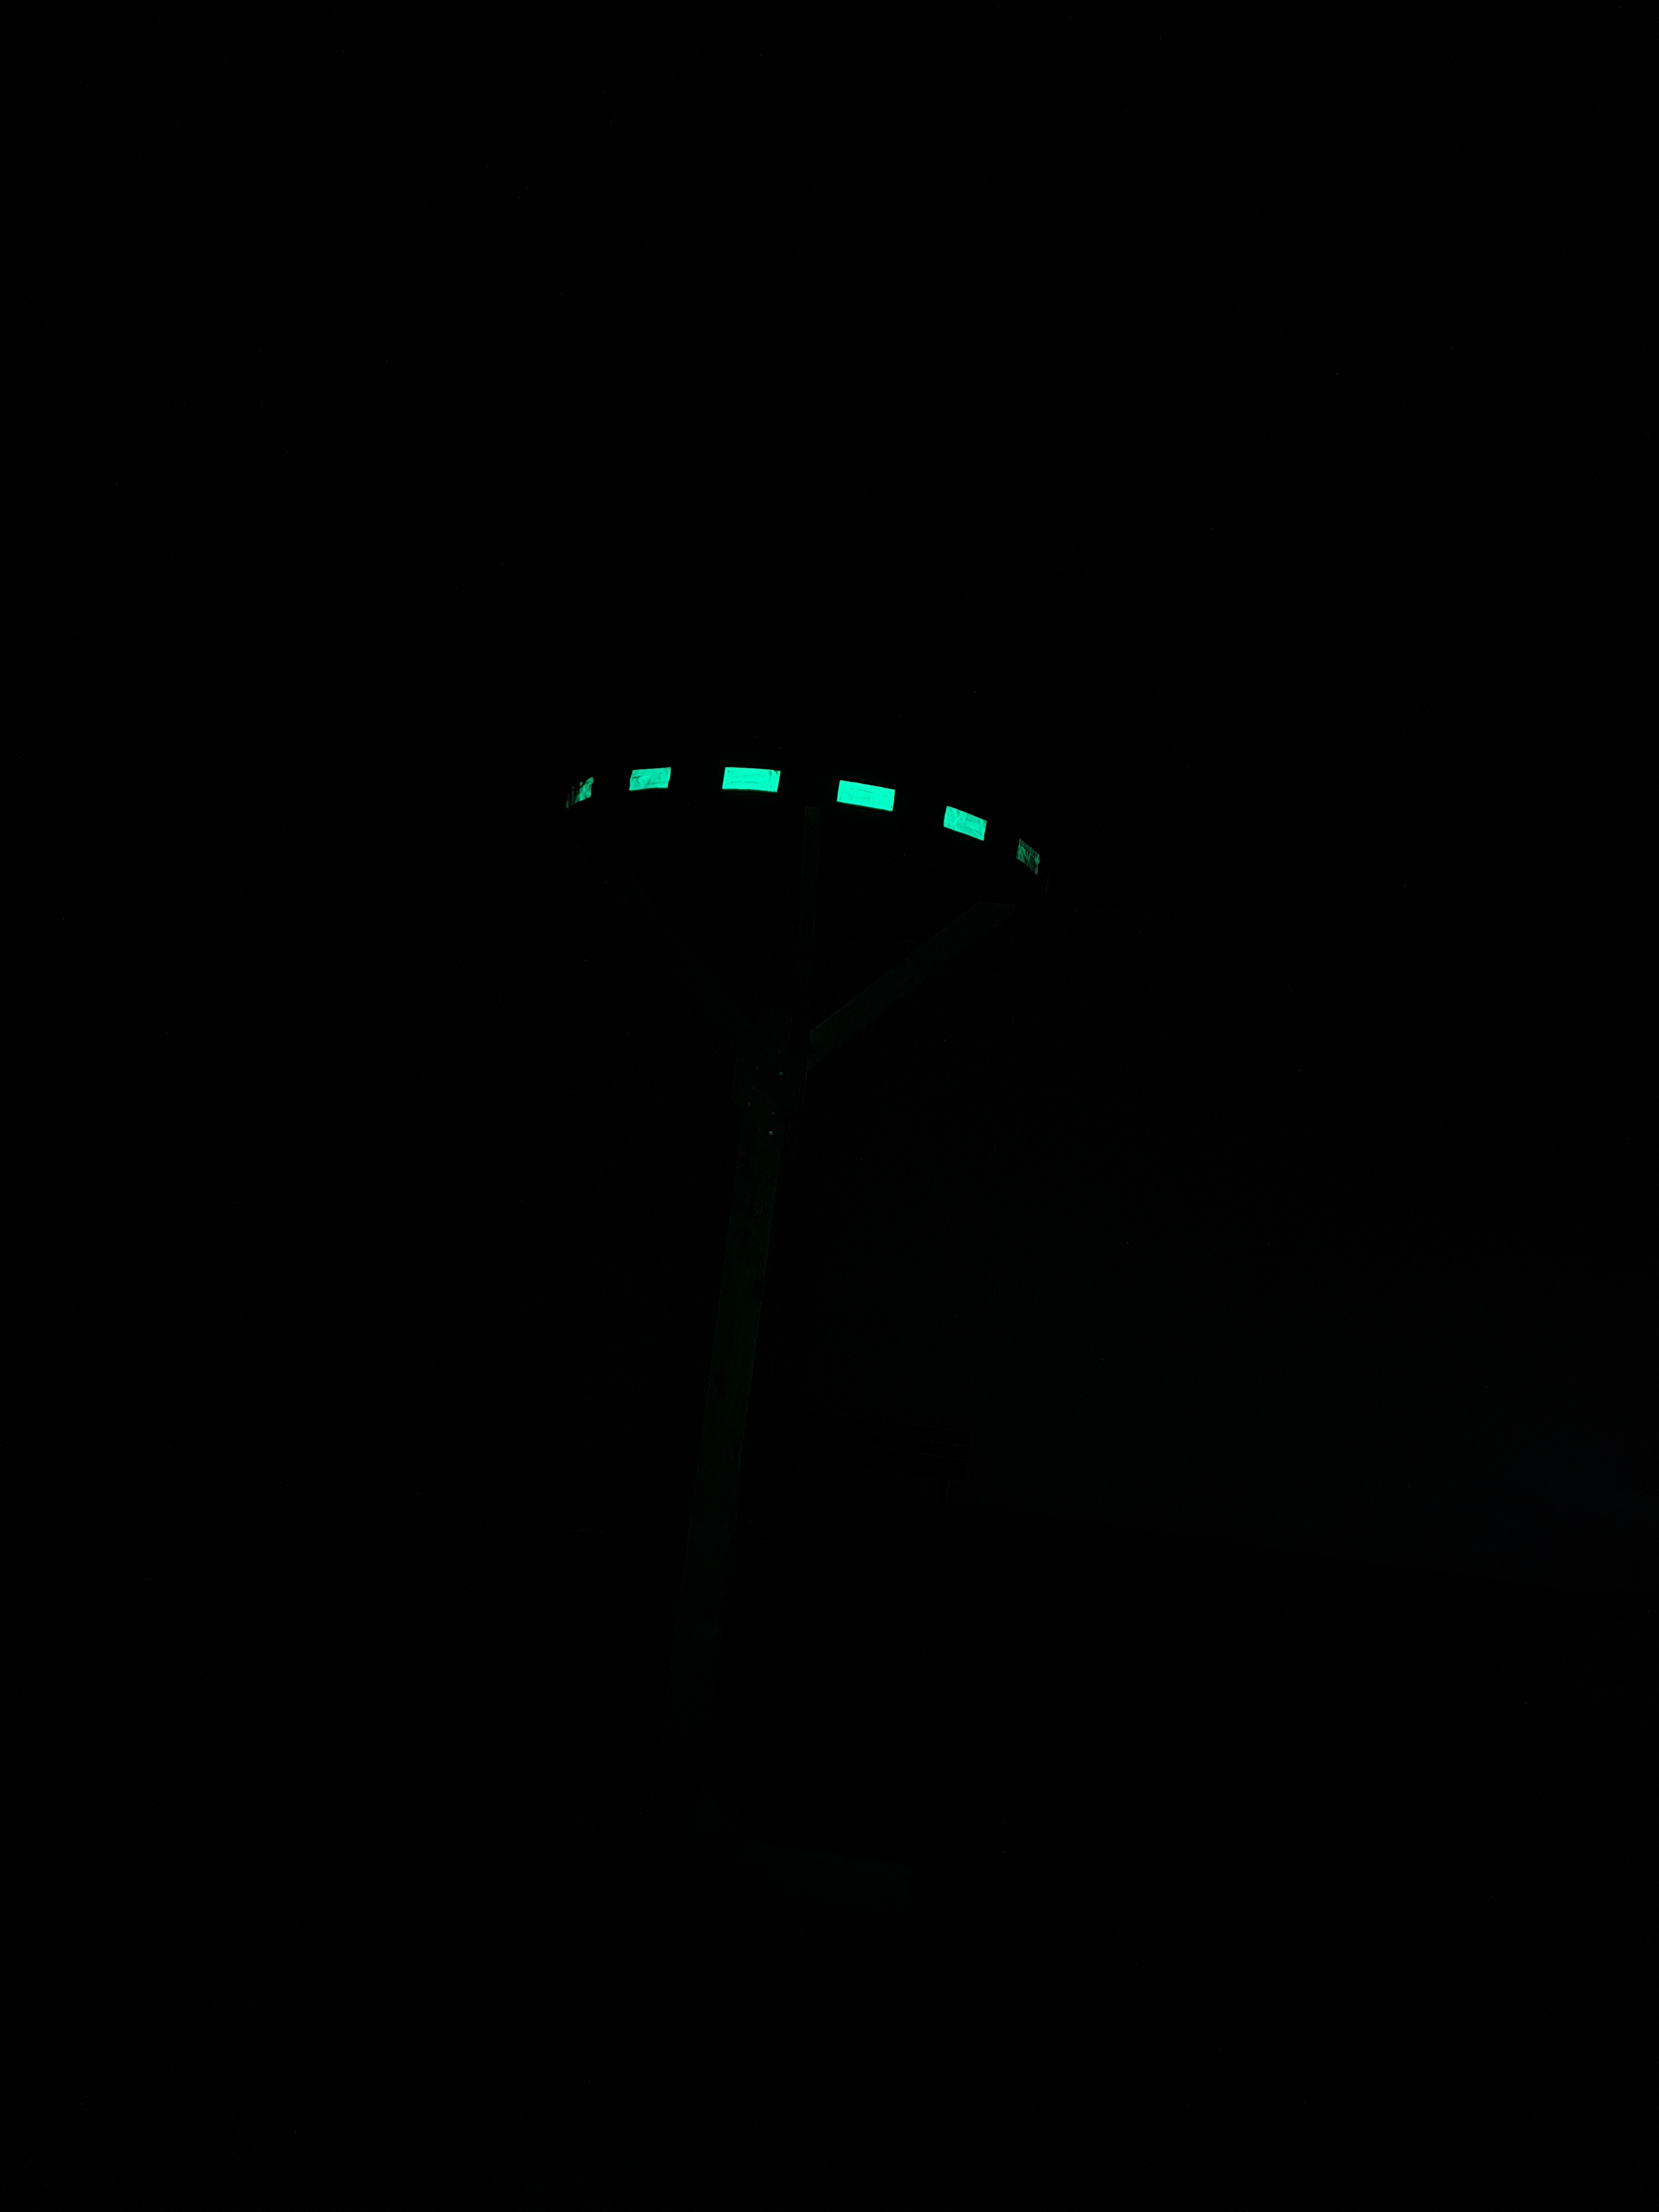hoop: (556, 756, 1042, 881)
